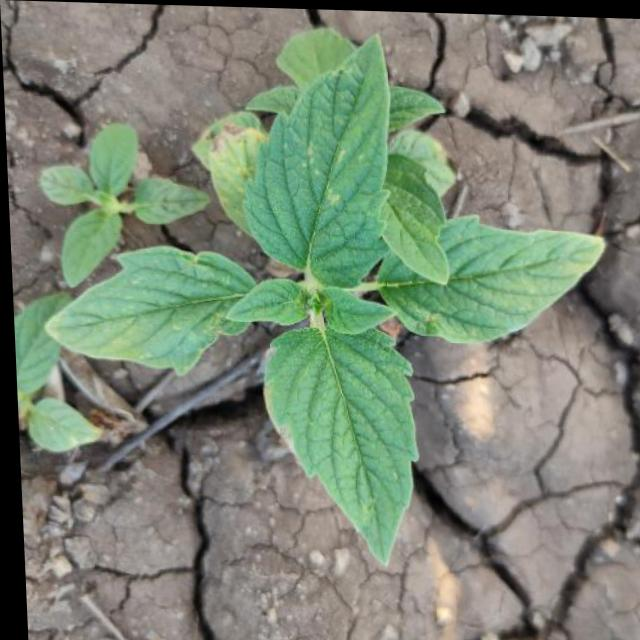crop: (27, 24, 618, 572)
